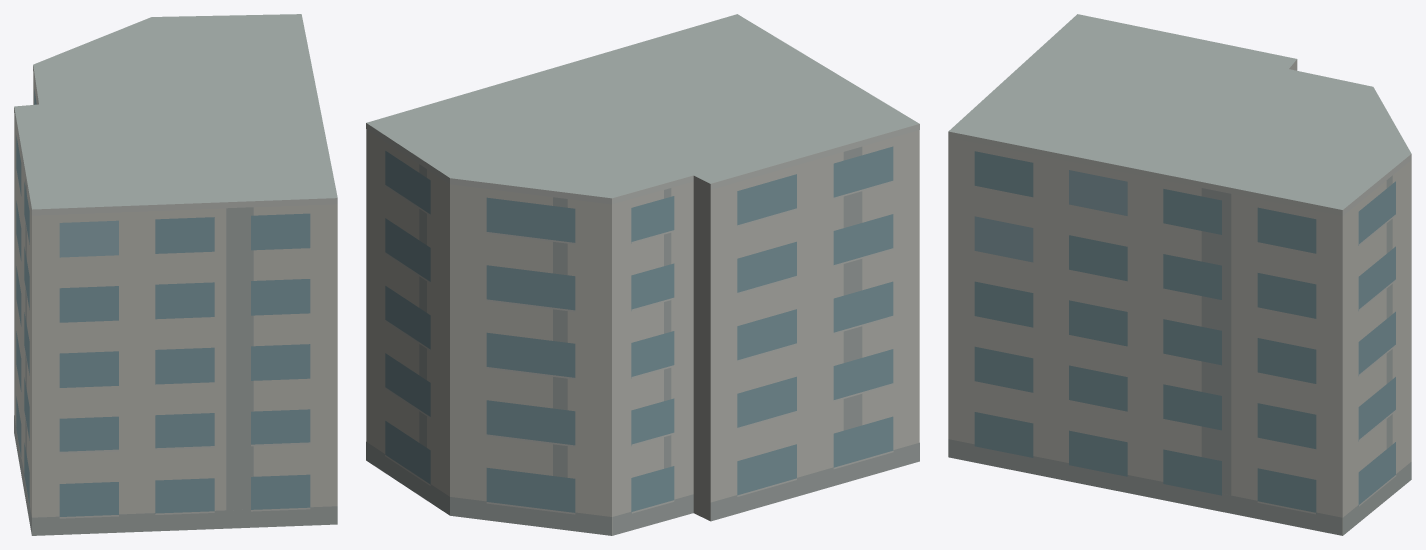
The model's file is survey-upis-32725400.glb.
3 views of the same model, side by side, from view 1: azimuth 30°, elevation 25°; view 2: azimuth 150°, elevation 25°; view 3: azimuth 270°, elevation 25° (orthographic). The views are drawn at different scales.
Visible parts, largest first — view 1: survey-upis-32725400.tmp; view 2: survey-upis-32725400.tmp; view 3: survey-upis-32725400.tmp.
Part boxes in pixels (<box>): survey-upis-32725400.tmp: <box>14,14,337,535</box>; survey-upis-32725400.tmp: <box>366,14,919,535</box>; survey-upis-32725400.tmp: <box>948,14,1411,535</box>.
Size of the model in its own units: 17.11 by 13.25 by 17.09.
